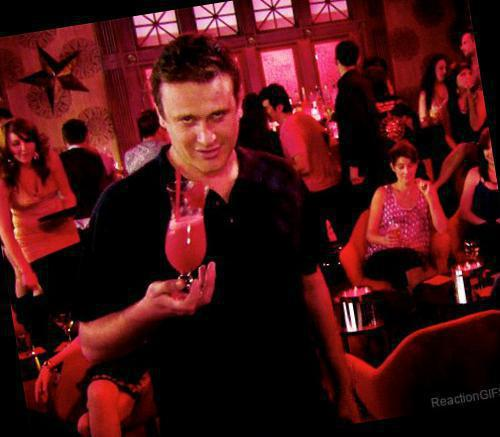Drunk: (164, 87, 239, 164)
